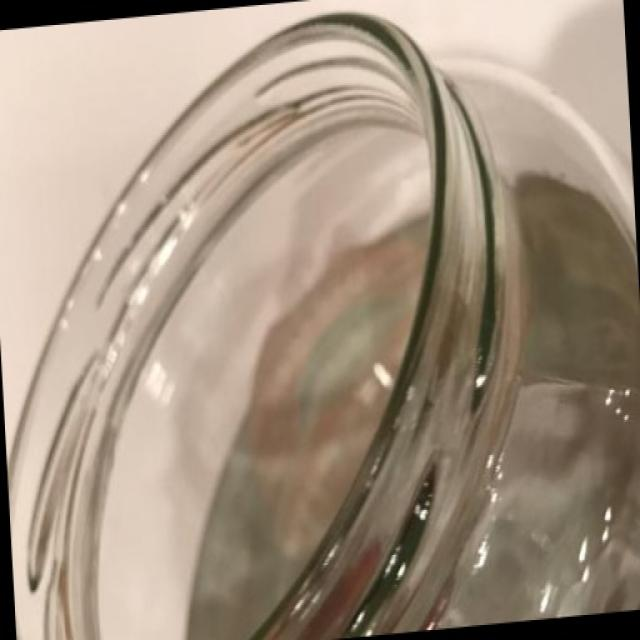vidrio: (20, 2, 634, 630)
